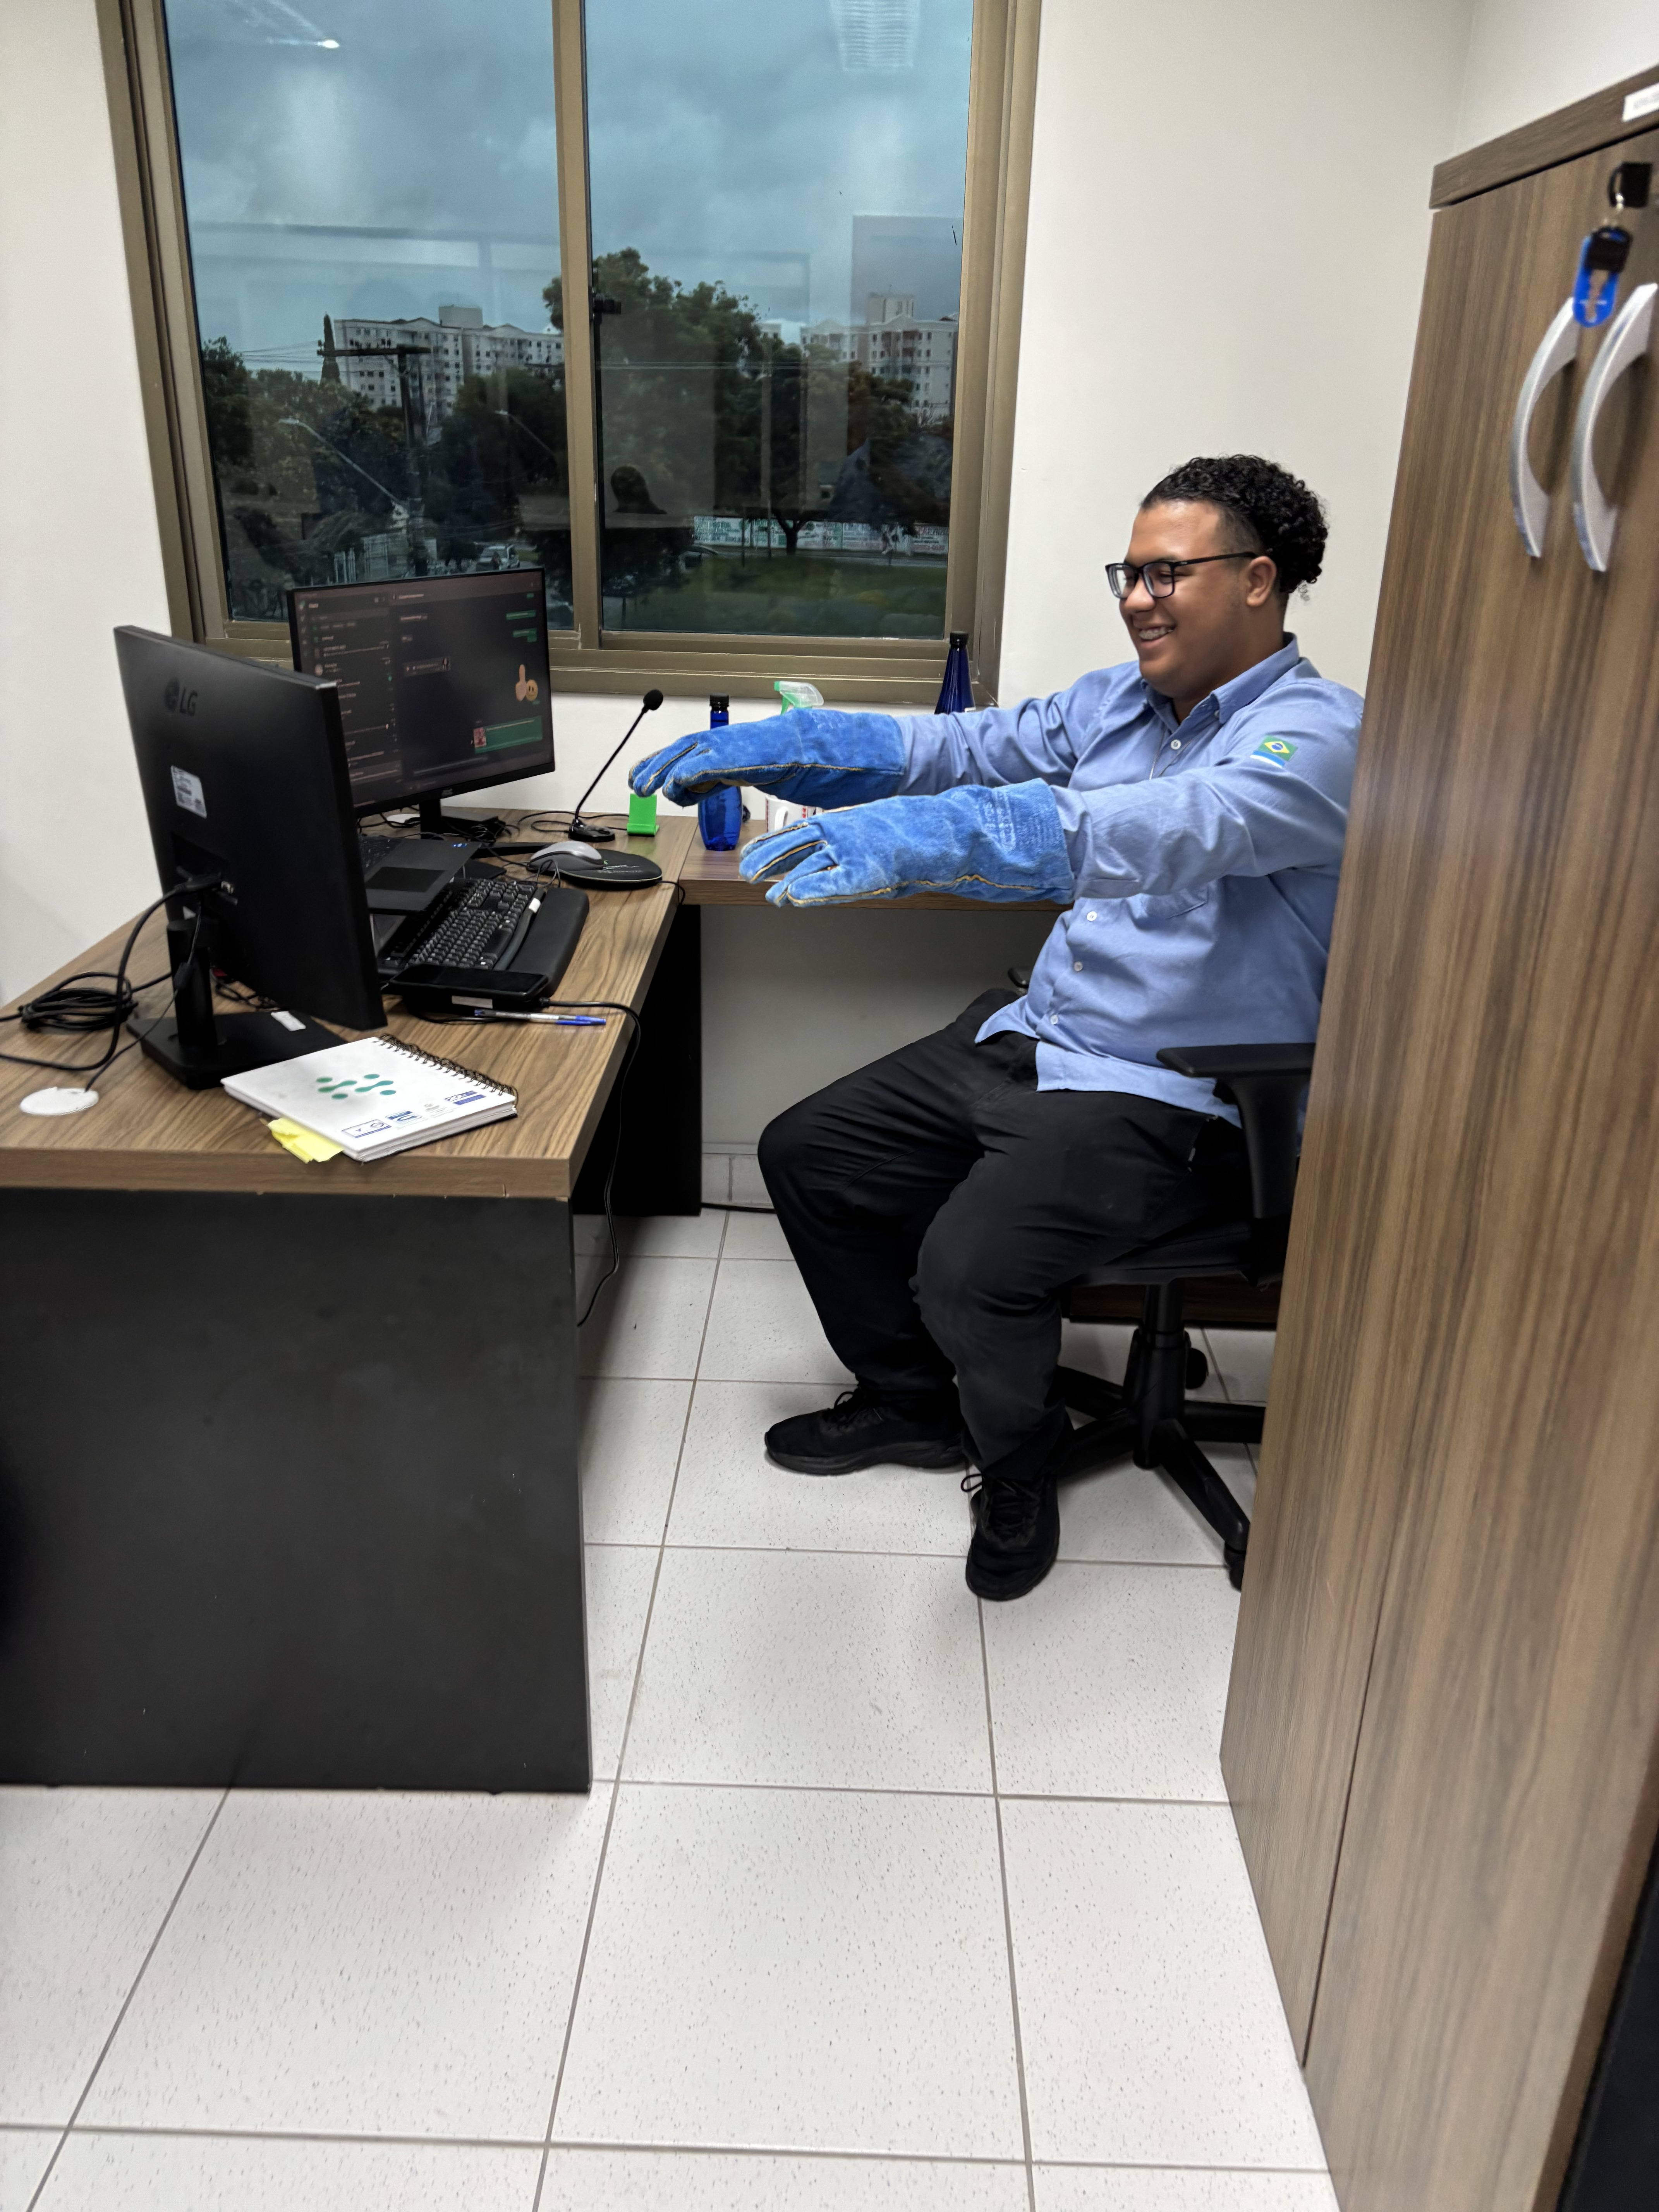Gloves: (735, 808, 1079, 918), (615, 711, 906, 822)
